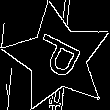P_SE: (27, 30, 89, 86)
